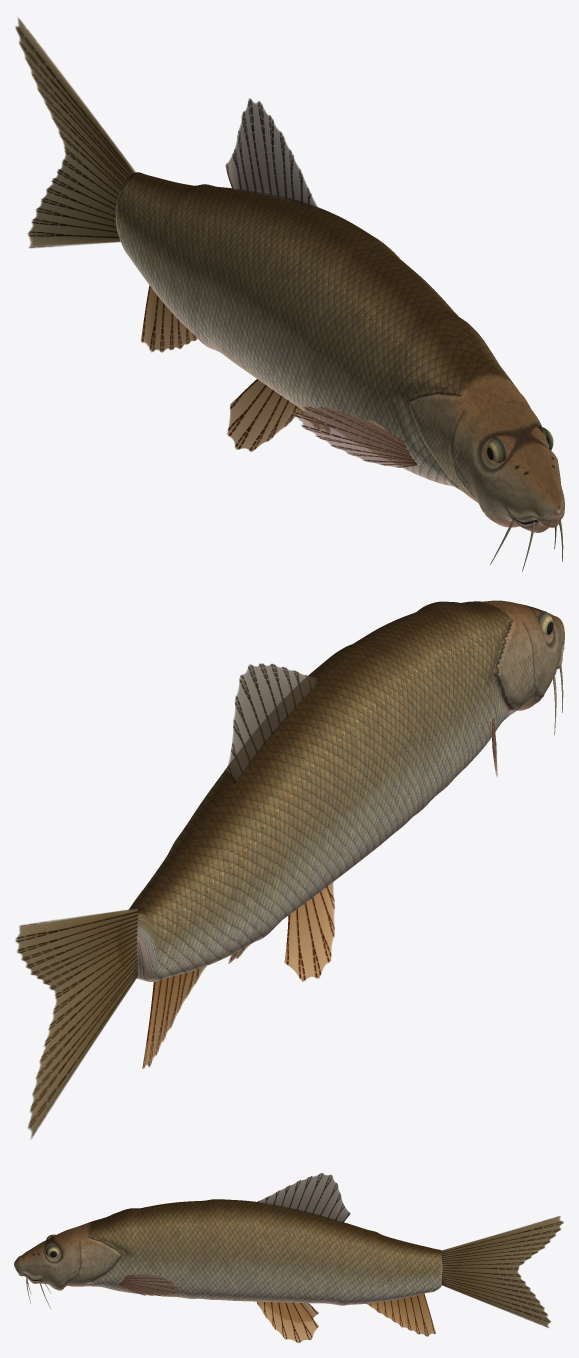
The model's file is brzana.glb.
The picture shows the model from 3 angles, top to bottom: view 1: azimuth 30°, elevation 25°; view 2: azimuth 150°, elevation 25°; view 3: azimuth 270°, elevation 25°; orthographic projection. The views are drawn at different scales.
Visible parts, largest first — view 1: Body, FinCaudal, FinDorsal1, FinPectoral, FinPelvic, FinAnal; view 2: Body, FinCaudal, FinDorsal1, FinPelvic, FinAnal; view 3: Body, FinCaudal, FinDorsal1, FinPelvic, FinAnal, FinPectoral.
Boxes of the visible parts, x1,y1,x2,y2 form: Body: (115,172,564,532); FinCaudal: (15,18,135,248); FinDorsal1: (225,98,319,212); FinPectoral: (291,406,416,467); FinPelvic: (227,379,330,451); FinAnal: (141,285,197,352); Body: (128,600,564,981); FinCaudal: (15,908,137,1138); FinDorsal1: (227,663,319,783); FinPelvic: (228,882,334,981); FinAnal: (142,966,205,1068); Body: (14,1199,442,1305); FinCaudal: (441,1216,563,1327); FinDorsal1: (257,1173,350,1222); FinPelvic: (257,1301,318,1343); FinAnal: (367,1293,435,1336); FinPectoral: (119,1273,180,1295).
Size of the model in its own units: 0.2186 by 0.3312 by 0.9998.
9 materials, 8 textured.
